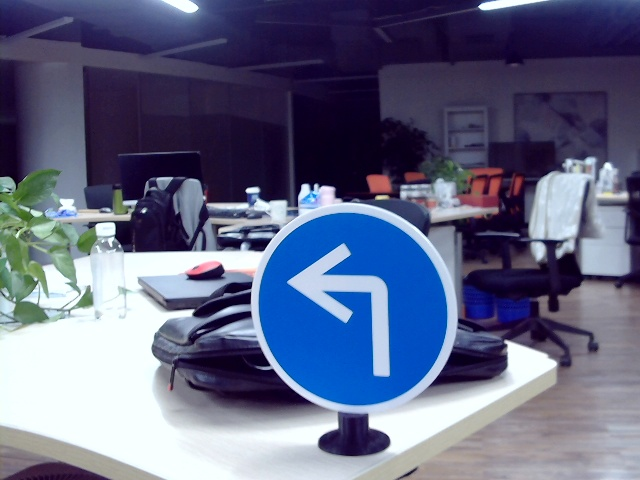turn_left: (290, 242, 401, 379)
